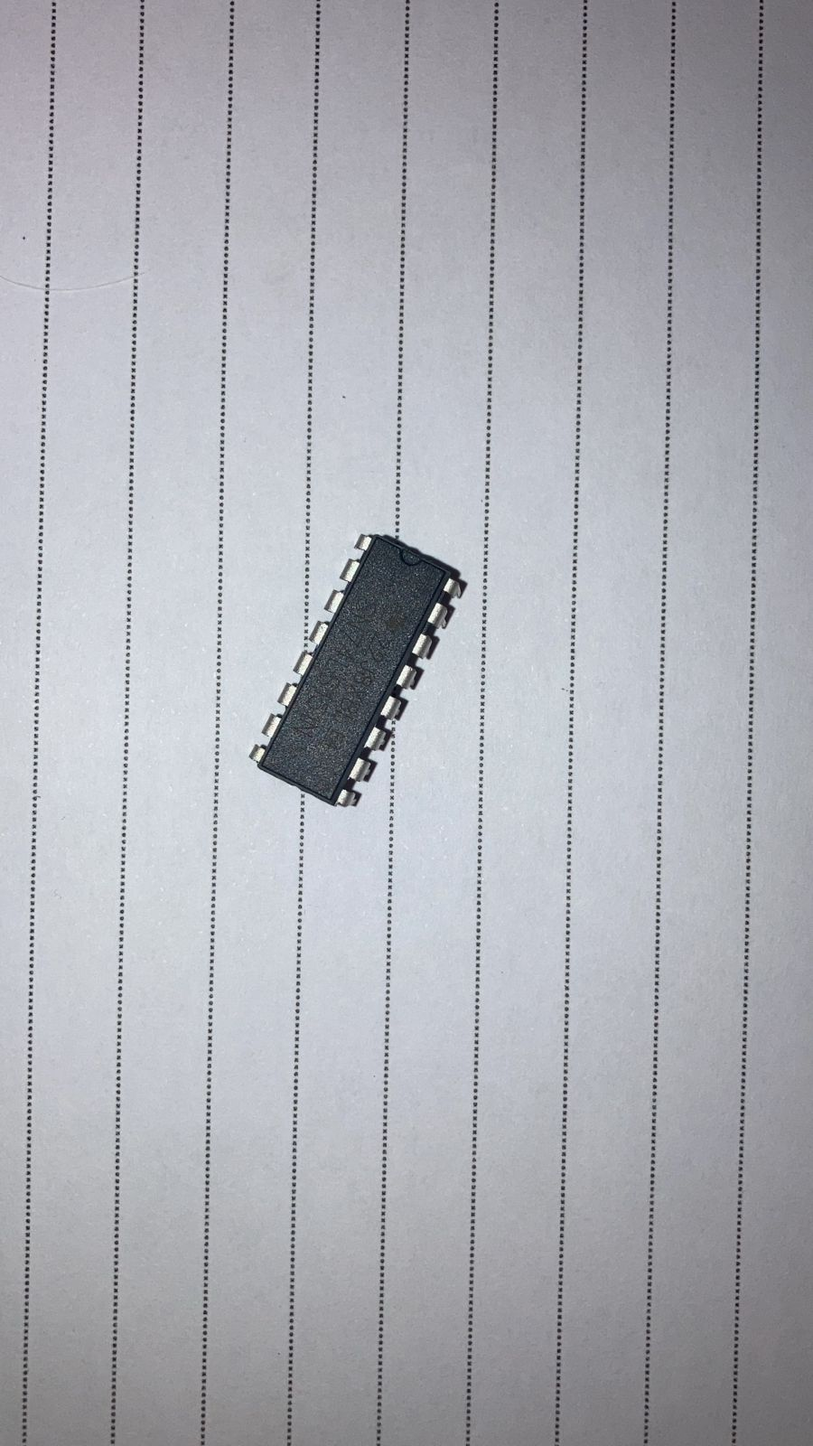IC: (240, 524, 475, 820)
notch: (398, 545, 426, 568)
